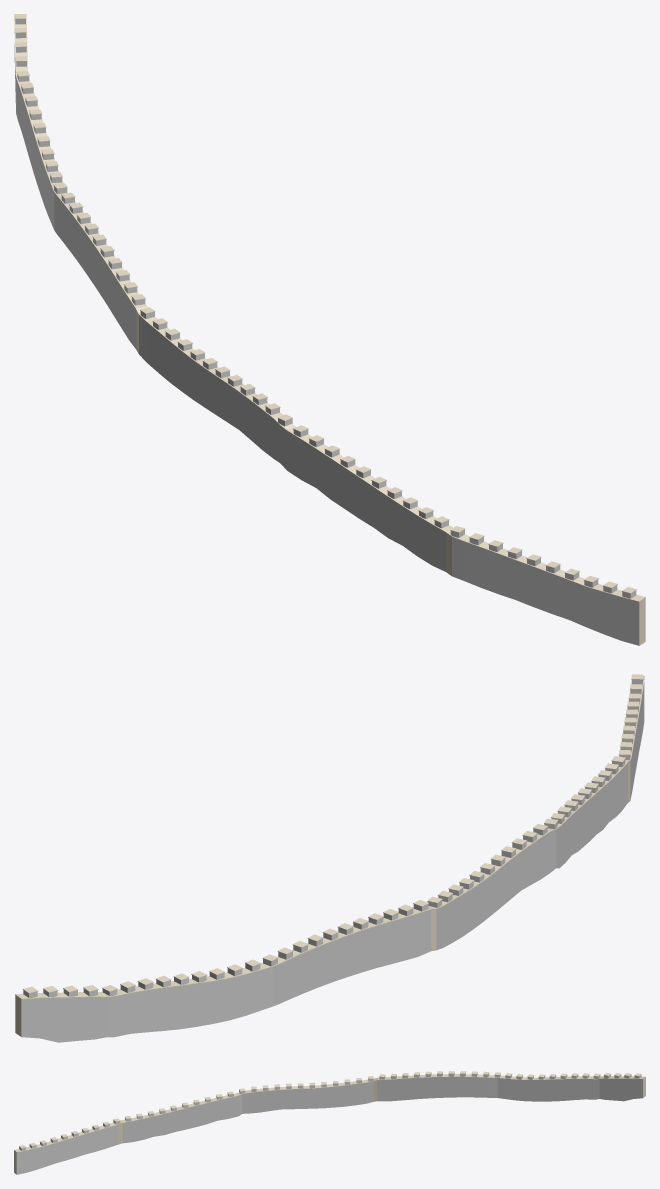
The model's file is SM_BM_BC_Mura_0.glb.
3 renders of one model, top to bottom at view 1: azimuth 30°, elevation 25°; view 2: azimuth 150°, elevation 25°; view 3: azimuth 270°, elevation 25°, orthographic. The views are drawn at different scales.
Parts seen in each view (by area): view 1: SM_BM_BC_Mura_0; view 2: SM_BM_BC_Mura_0; view 3: SM_BM_BC_Mura_0.
Boxes of the visible parts, box(x1,y1,x2,y2) form: SM_BM_BC_Mura_0: box(14, 14, 645, 645); SM_BM_BC_Mura_0: box(15, 674, 644, 1042); SM_BM_BC_Mura_0: box(14, 1071, 645, 1174).
Bounding box in the file's own units: 25.65 × 28.8 × 173.
